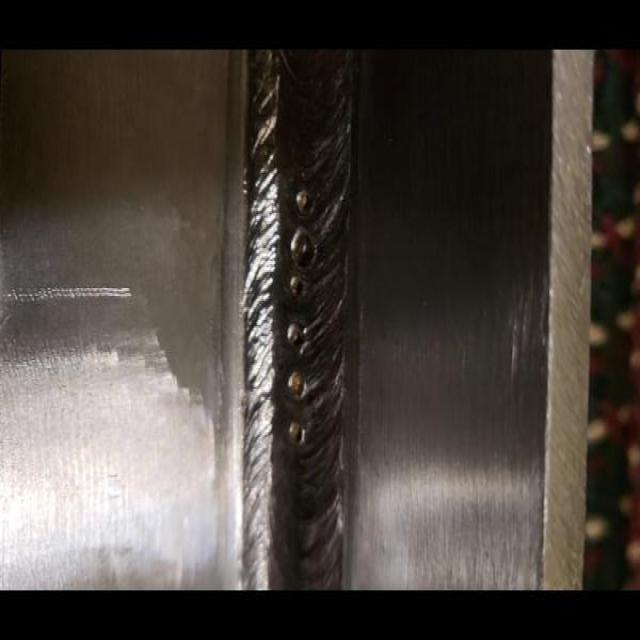Welding Line: (248, 50, 343, 588)
Workpiece: (4, 55, 581, 589)
porosity: (286, 186, 316, 444)
